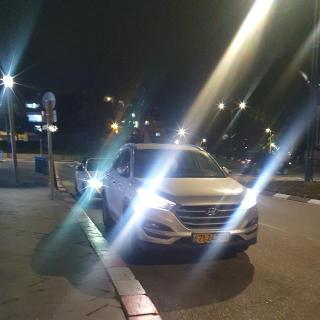LicensePlate: (197, 235, 229, 242)
